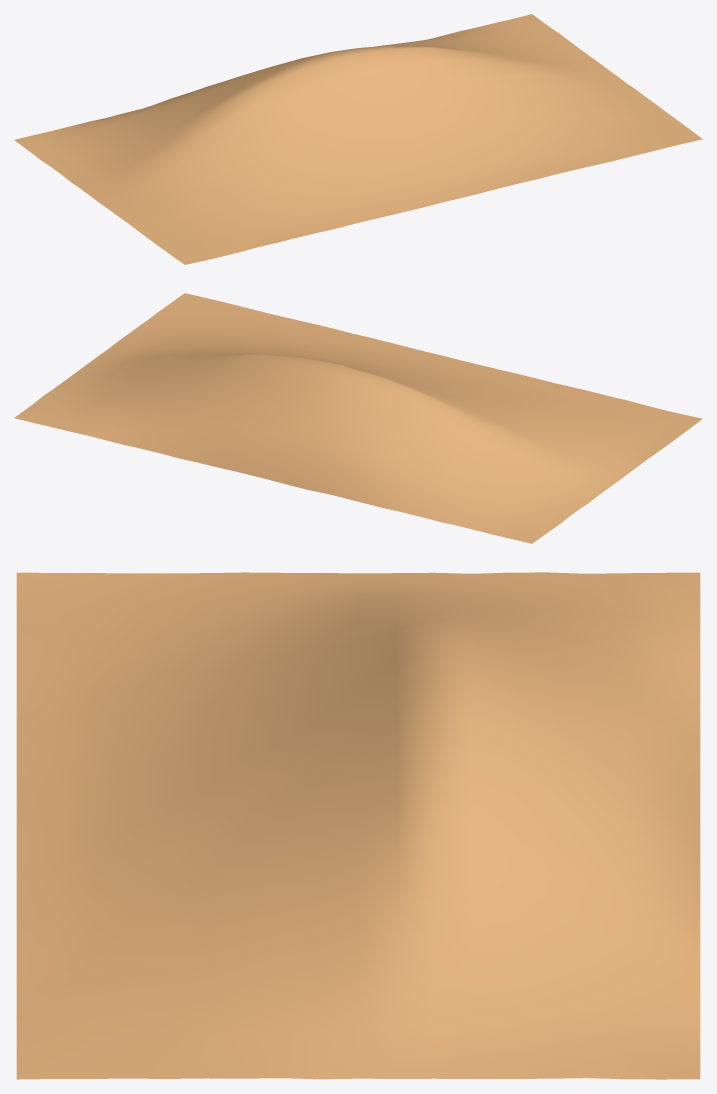
The model's file is dune_sanddune_a.glb.
3 views of the same model, one above another, from view 1: azimuth 30°, elevation 25°; view 2: azimuth 150°, elevation 25°; view 3: azimuth 270°, elevation 25° (orthographic). The views are drawn at different scales.
Visible parts, largest first — view 1: DuneA; view 2: DuneA; view 3: DuneA.
Boxes of the visible parts, x1,y1,x2,y2 form: DuneA: (14, 14, 702, 264); DuneA: (14, 293, 702, 543); DuneA: (16, 572, 700, 1079).
Bounding box in the file's own units: 70 × 8.78 × 40.
